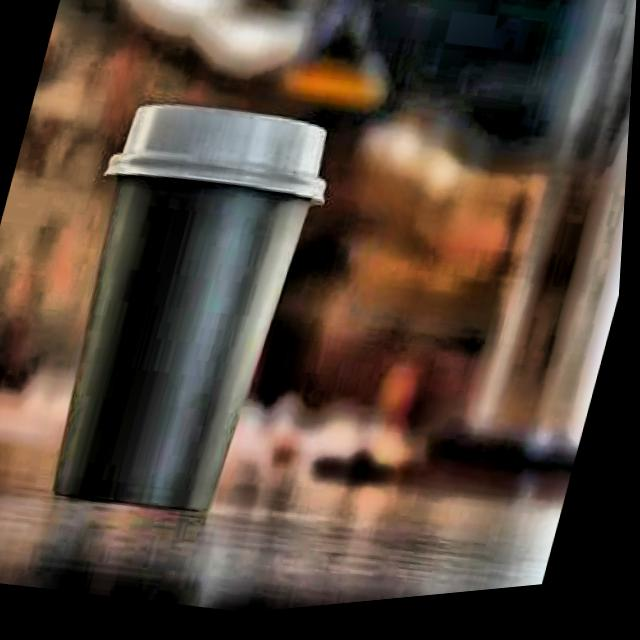Cup: (19, 74, 352, 551)
